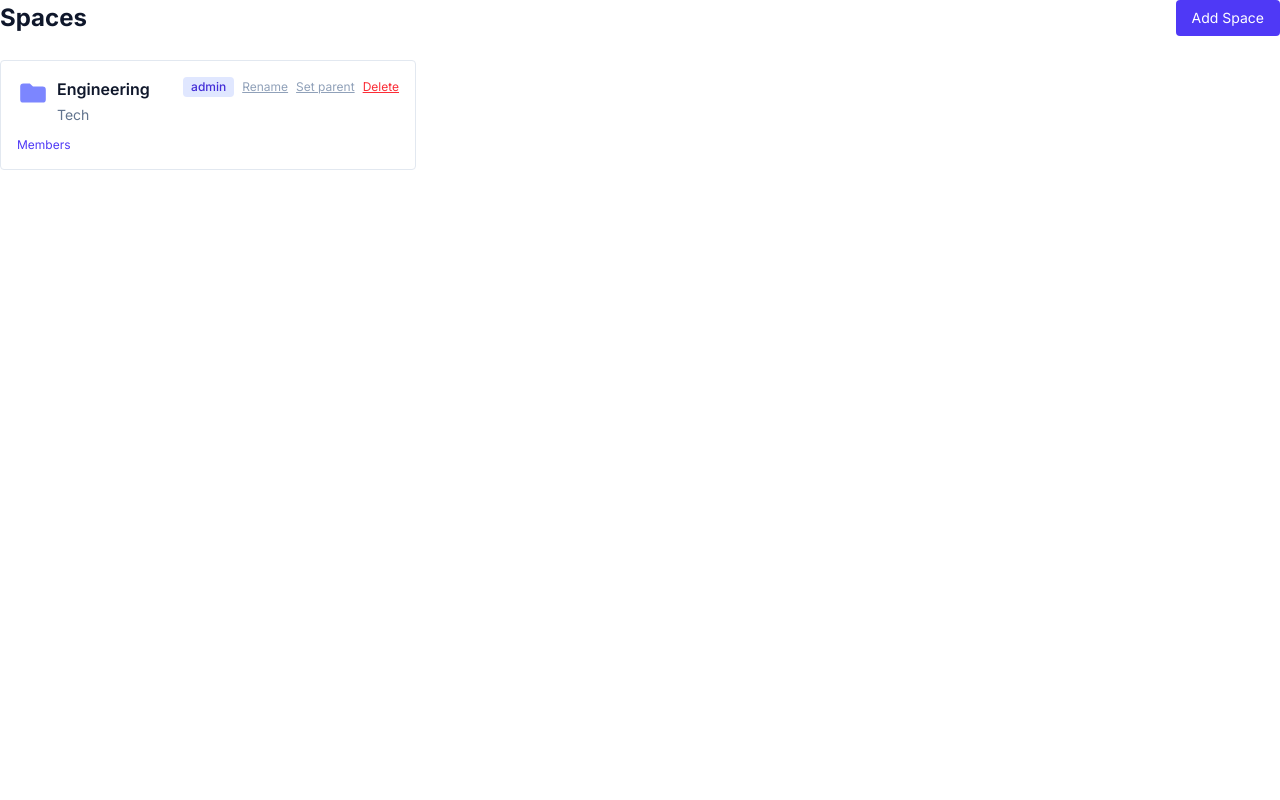
DeleteSpaceModal › removes the tile immediately on successful deletion
Check: the heading "Engineering" is shown, box [57,77,150,101]
Click the button "Delete" at [381, 87], box [363,79,399,95]
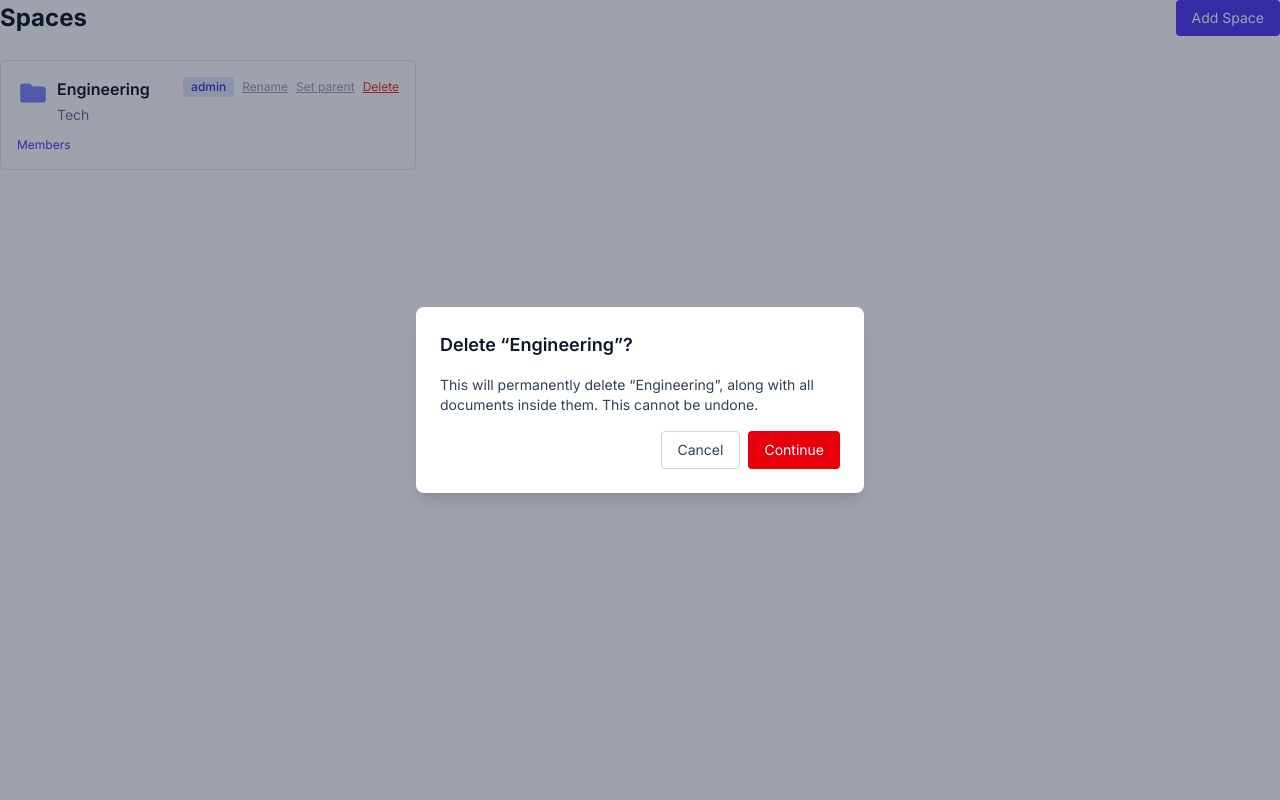
Click the button "Continue" at [794, 450], box [748,431,840,469]
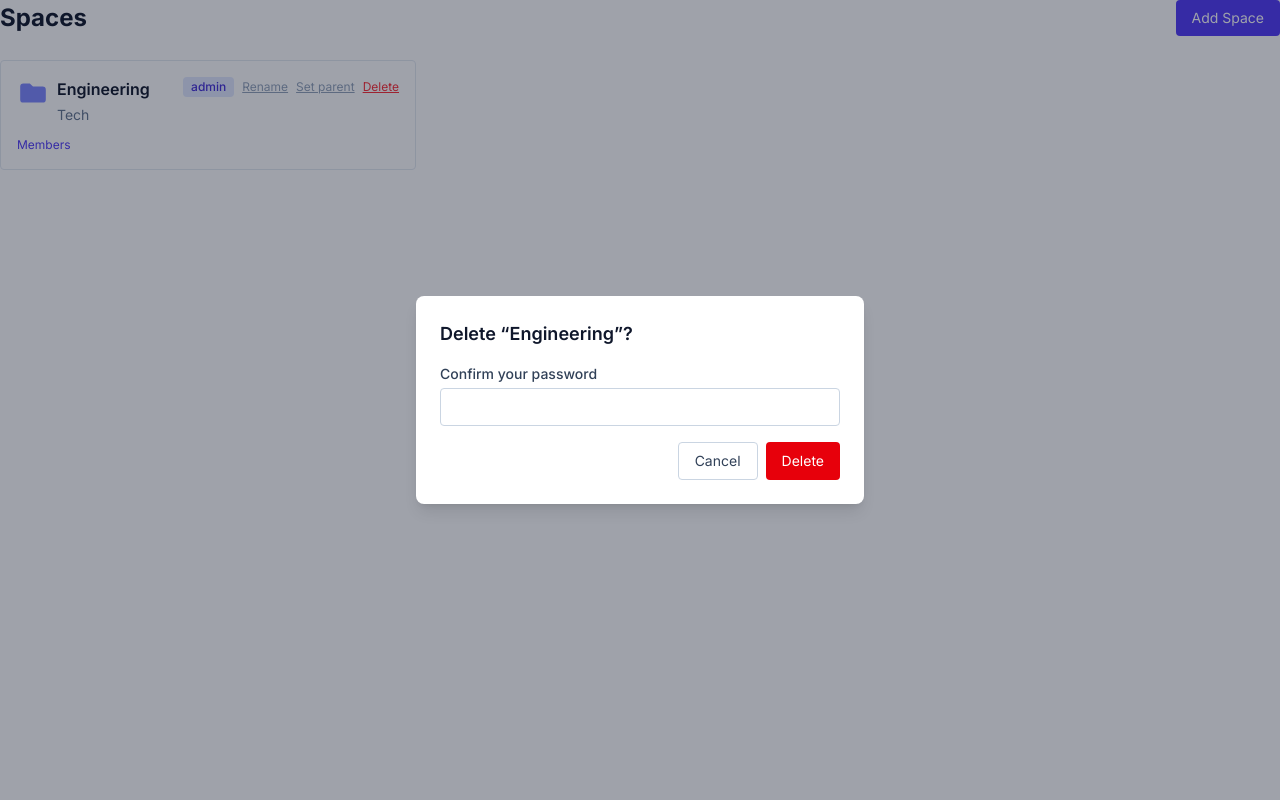
Check: the password field labelled "Confirm your password" is shown
Type "correct" into the password field labelled "Confirm your password" at [640, 407], box [440,388,840,426]
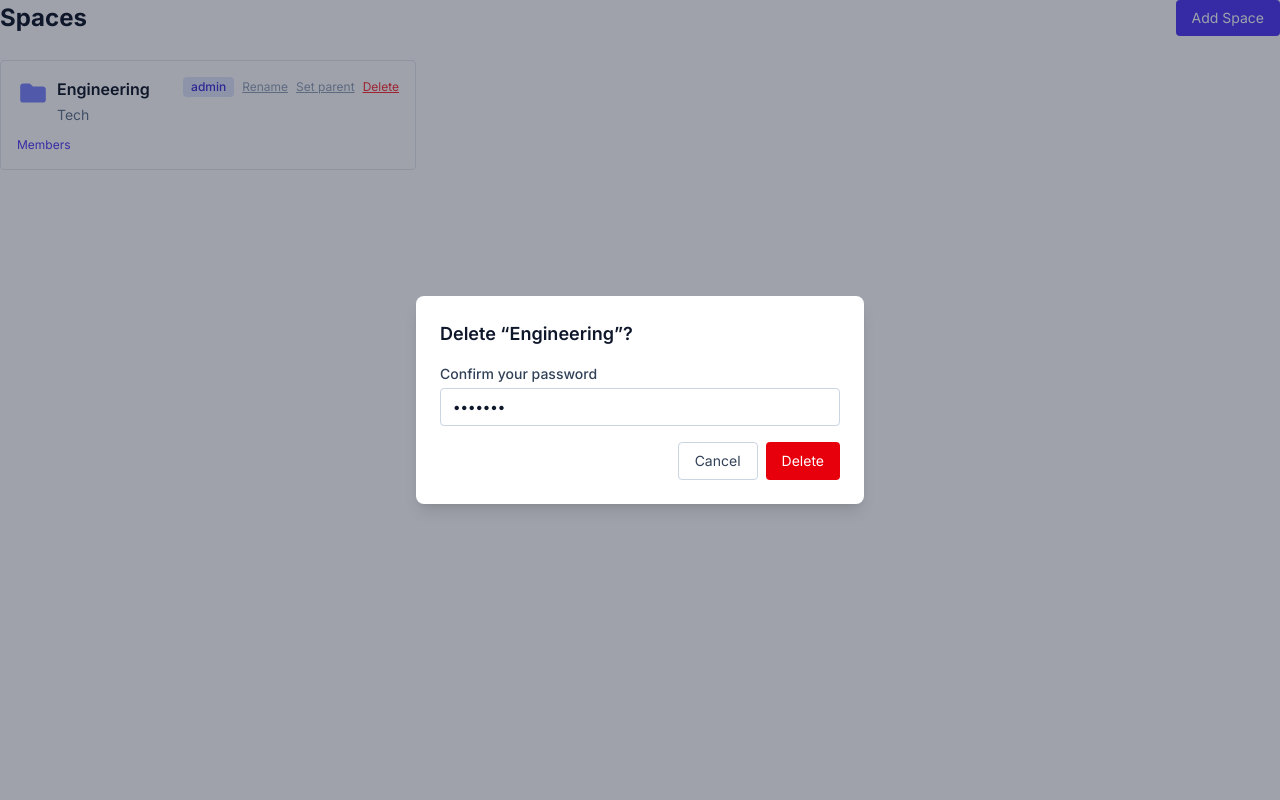
Click the button "Delete" at [803, 461], box [766,442,840,480]
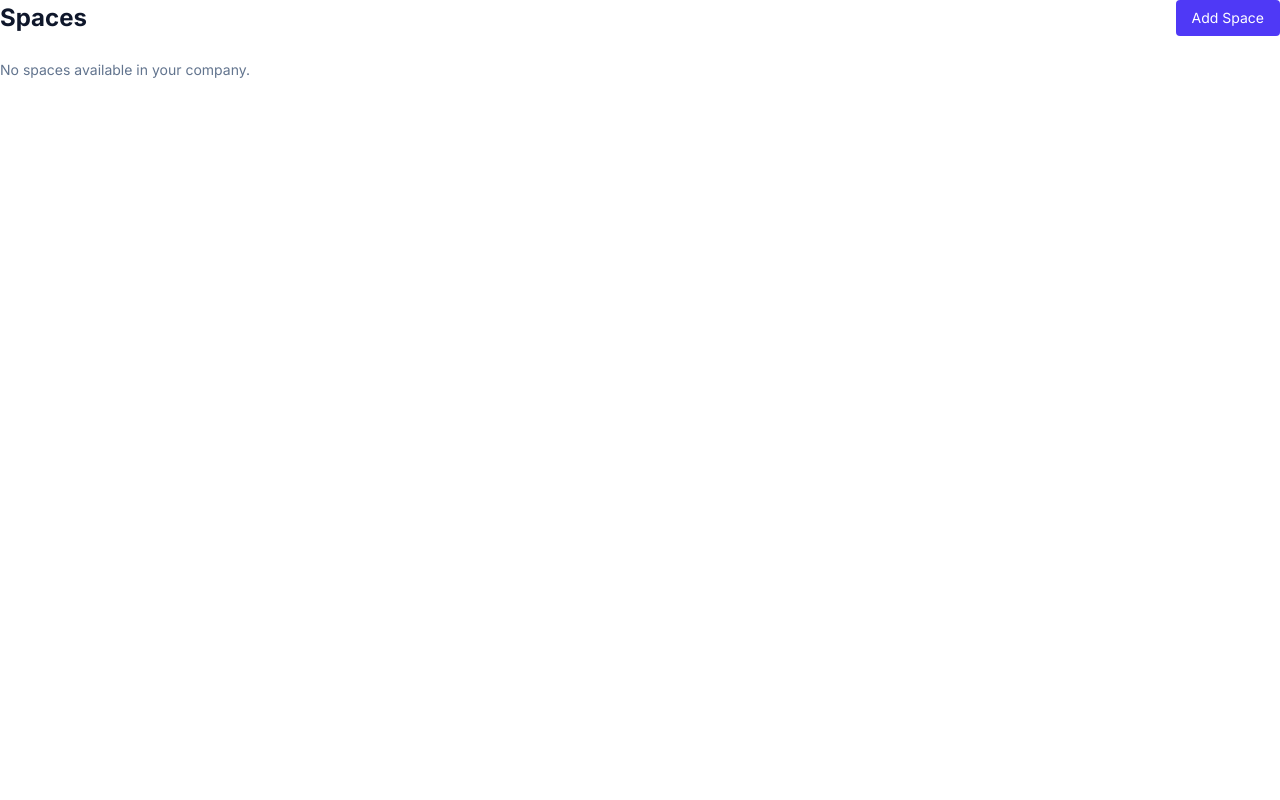
Check: the link "Engineering" is gone
